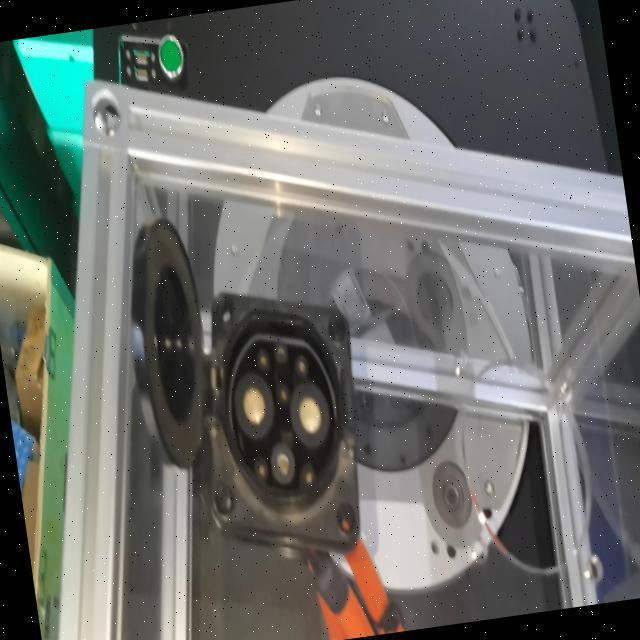GB-T: (214, 302, 383, 532)
